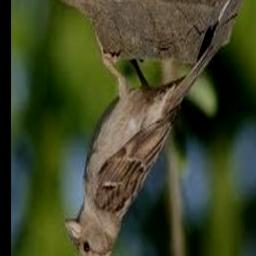Sparrow: (65, 39, 213, 256)
